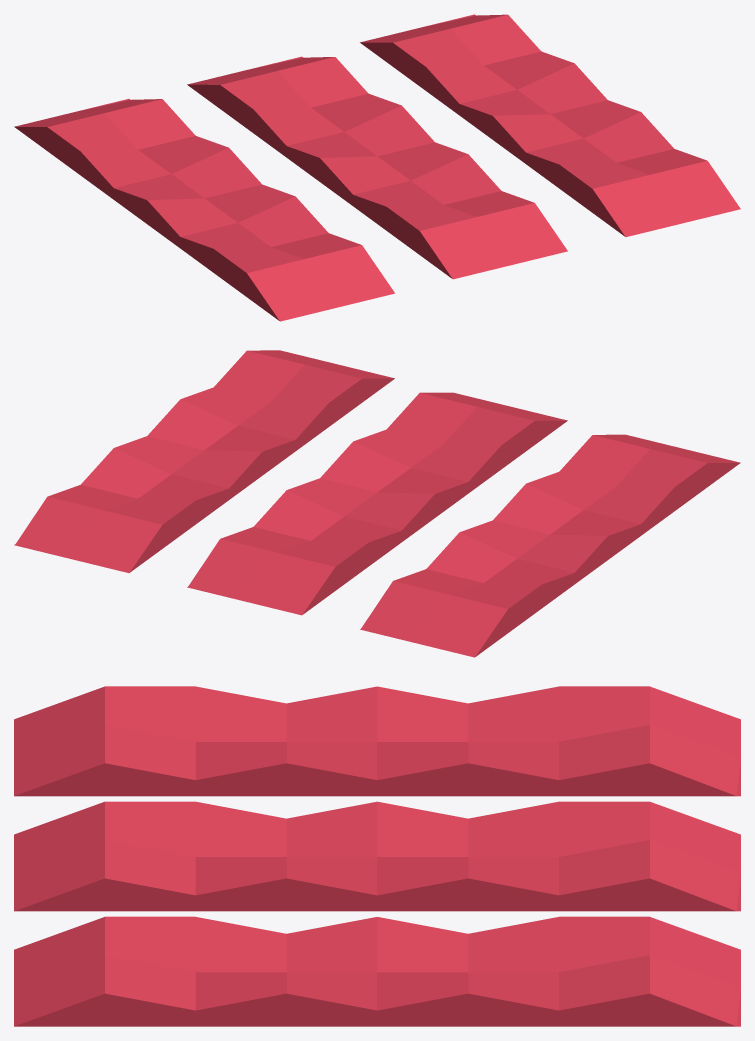
File: Combine mesh test.fbx
3 views of the same model, one above another, from view 1: azimuth 30°, elevation 25°; view 2: azimuth 150°, elevation 25°; view 3: azimuth 270°, elevation 25° (orthographic). The views are drawn at different scales.
Parts seen in each view (by area): view 1: Wheel Tester Combine; view 2: Wheel Tester Combine; view 3: Wheel Tester Combine.
Part boxes in pixels (x1=…): Wheel Tester Combine: x1=14, y1=14, x2=740, y2=321; Wheel Tester Combine: x1=14, y1=350, x2=740, y2=657; Wheel Tester Combine: x1=14, y1=686, x2=740, y2=1026.
Size of the model in its own units: 800 by 40 by 800.
